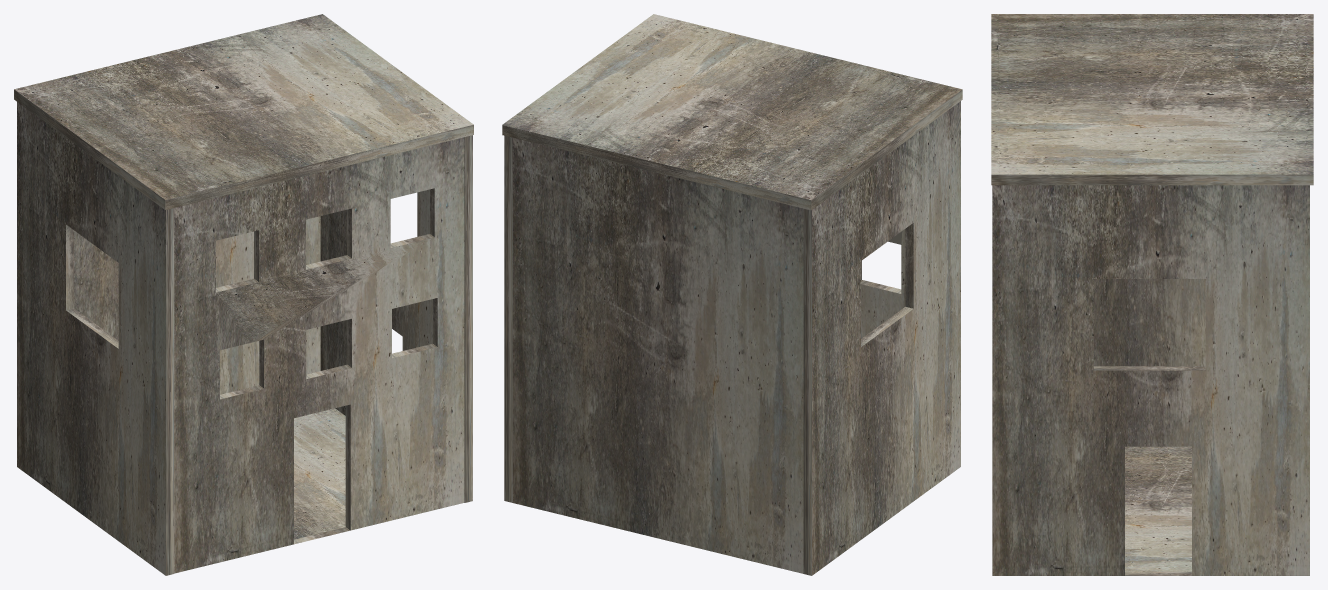
File: building1.fbx
3 renders of one model, left to right at view 1: azimuth 30°, elevation 25°; view 2: azimuth 150°, elevation 25°; view 3: azimuth 270°, elevation 25°, orthographic. The views are drawn at different scales.
Visible parts, largest first — view 1: Box013, Box014, Box005, Box002, Box016, Plane001; view 2: Box002, Box014, Box005, Box016, Box013; view 3: Box016, Box005, Box014, Plane001.
Part boxes in pixels (box(x1,y1,x2,y2)): Box013: box(174, 137, 464, 573); Box014: box(17, 102, 174, 575); Box005: box(14, 14, 473, 209); Box002: box(74, 216, 320, 394); Box016: box(320, 135, 472, 502); Plane001: box(294, 408, 345, 539); Box002: box(512, 138, 803, 573); Box014: box(803, 101, 960, 575); Box005: box(502, 14, 962, 210); Box016: box(504, 135, 512, 502); Box013: box(861, 229, 905, 338); Box016: box(992, 185, 1309, 575); Box005: box(991, 14, 1313, 185); Box014: box(1093, 279, 1205, 366); Plane001: box(1125, 446, 1191, 571).
Bounding box in the file's own units: 71.54 × 83.43 × 60.74.
Materials: 1 (1 with a texture image).
